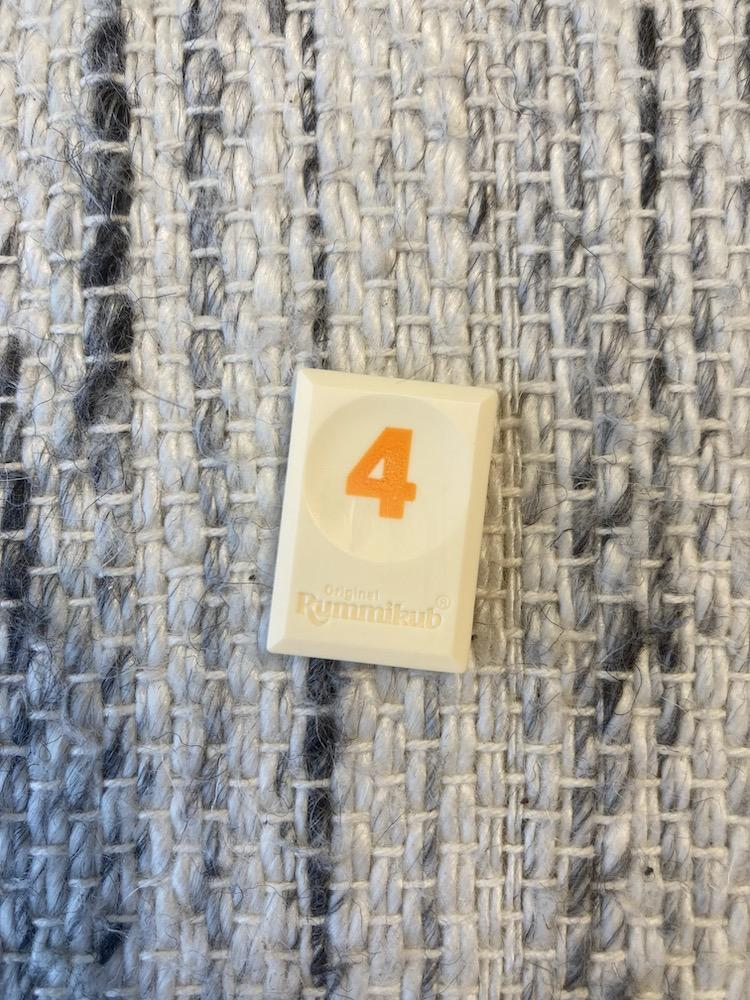orange_4: (268, 369, 498, 672)
